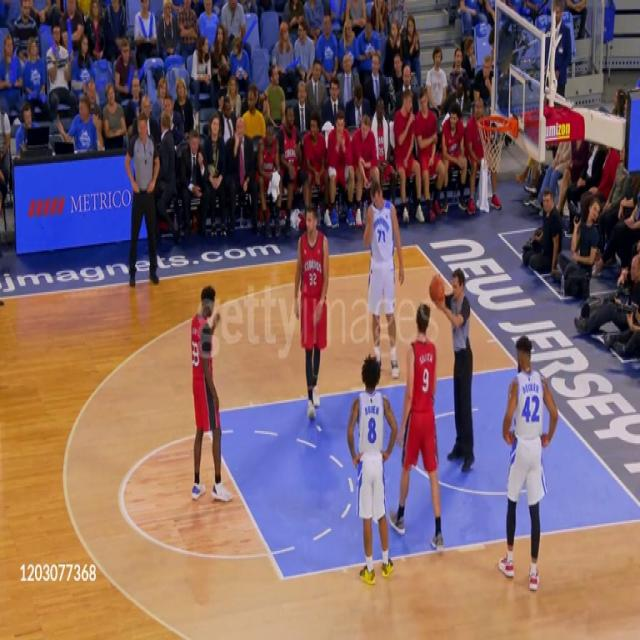ball: (429, 276, 446, 306)
